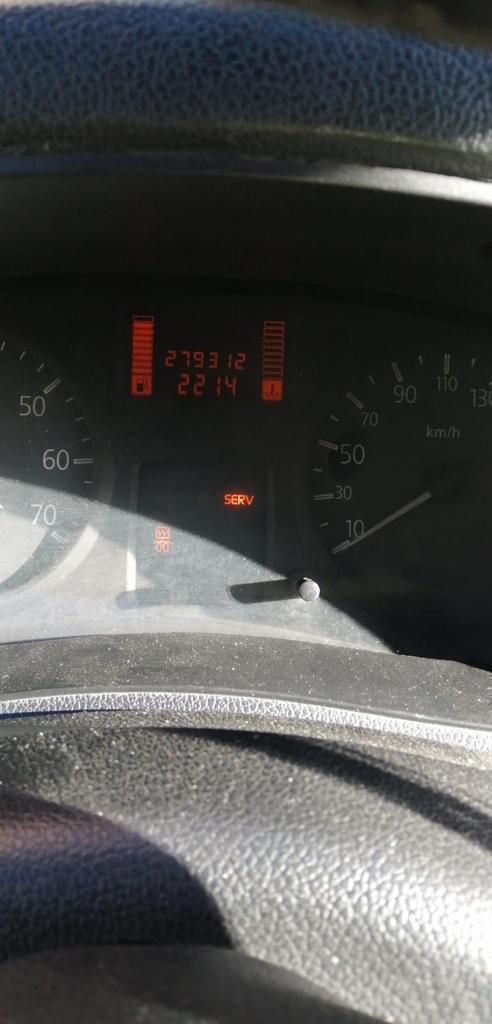1: (215, 375, 221, 396), (227, 352, 232, 368)
2: (177, 372, 190, 395), (193, 373, 205, 396), (164, 350, 176, 367), (234, 352, 245, 369)
3: (207, 351, 218, 369)
4: (224, 375, 236, 396)
7: (181, 349, 190, 367)
9: (193, 351, 203, 367)
odometer: (127, 310, 286, 404)
